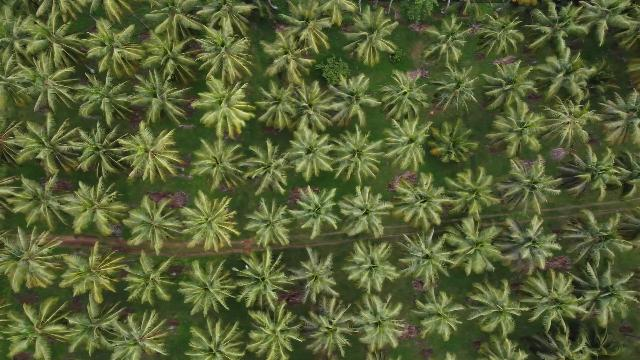trees: (6, 51, 84, 115), (566, 259, 640, 326), (115, 124, 190, 185), (3, 299, 78, 360), (558, 212, 638, 269), (1, 227, 69, 294), (59, 243, 132, 305), (558, 145, 637, 202), (516, 272, 584, 335), (140, 26, 206, 90), (492, 217, 564, 275), (193, 25, 259, 88), (233, 251, 300, 313), (62, 179, 133, 237), (88, 20, 152, 83), (193, 82, 259, 143), (5, 175, 75, 232), (177, 193, 242, 254), (124, 195, 191, 254), (64, 300, 132, 358), (495, 160, 566, 215), (130, 70, 197, 128), (443, 219, 508, 278), (66, 123, 134, 179), (342, 6, 402, 69), (395, 231, 459, 290), (73, 73, 141, 128), (463, 282, 527, 340), (106, 309, 179, 359), (178, 261, 241, 318), (191, 138, 254, 195), (388, 176, 451, 233), (118, 253, 180, 310), (305, 302, 364, 360), (540, 98, 601, 154), (262, 31, 323, 86), (487, 106, 549, 160), (238, 140, 297, 196), (330, 128, 387, 185), (410, 290, 469, 345), (248, 307, 309, 360), (343, 242, 400, 298), (355, 298, 410, 355), (478, 63, 538, 114), (285, 129, 340, 184), (339, 187, 396, 240), (326, 75, 381, 129), (382, 118, 435, 174), (378, 73, 434, 126), (426, 66, 484, 117), (244, 197, 298, 250), (255, 81, 310, 133), (442, 167, 497, 219), (292, 250, 341, 308), (422, 16, 476, 68), (291, 188, 342, 241), (187, 317, 250, 359), (426, 118, 481, 166), (474, 15, 528, 62)
